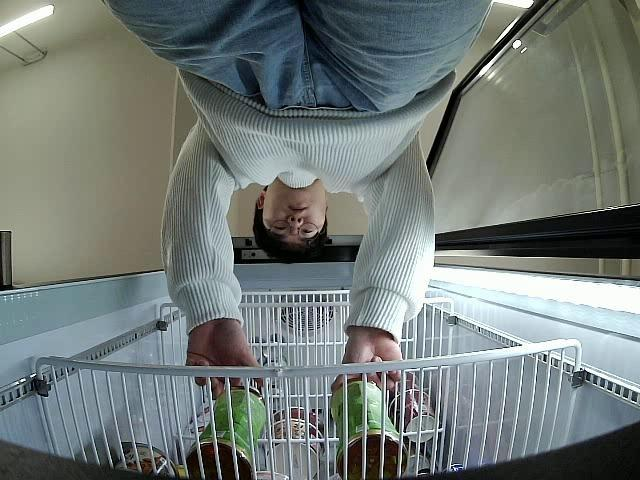19_17cha: (327, 377, 407, 480), (186, 385, 268, 480)
